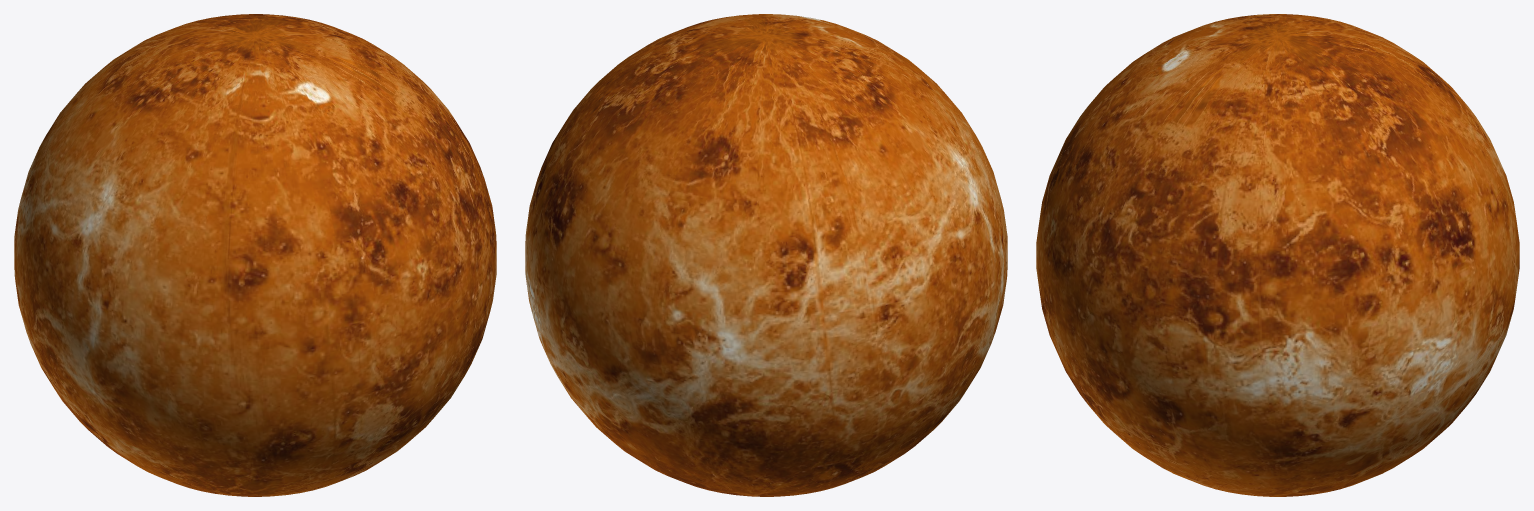
File: Planeta.FBX
The picture shows the model from 3 angles, left to right: view 1: azimuth 30°, elevation 25°; view 2: azimuth 150°, elevation 25°; view 3: azimuth 270°, elevation 25°; orthographic projection.
Visible parts, largest first — view 1: Planeta; view 2: Planeta; view 3: Planeta.
Boxes of the visible parts, x1,y1,x2,y2 form: Planeta: (14,14,496,496); Planeta: (525,14,1007,496); Planeta: (1036,14,1519,496).
Bounding box in the file's own units: 7708 × 7738 × 7723.
Materials: 1 (1 with a texture image).
